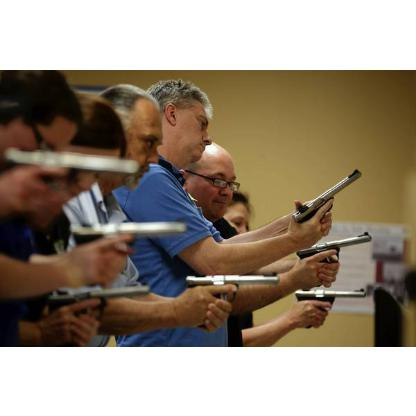gun: (0, 148, 141, 220), (74, 214, 188, 284), (44, 286, 156, 338), (290, 165, 364, 233), (186, 272, 276, 326), (297, 230, 372, 283), (292, 288, 367, 326)
